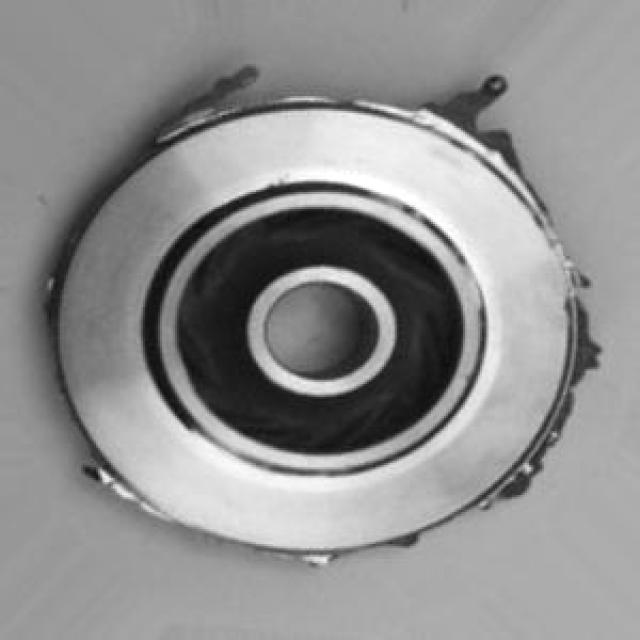Defect: (434, 66, 502, 146)
